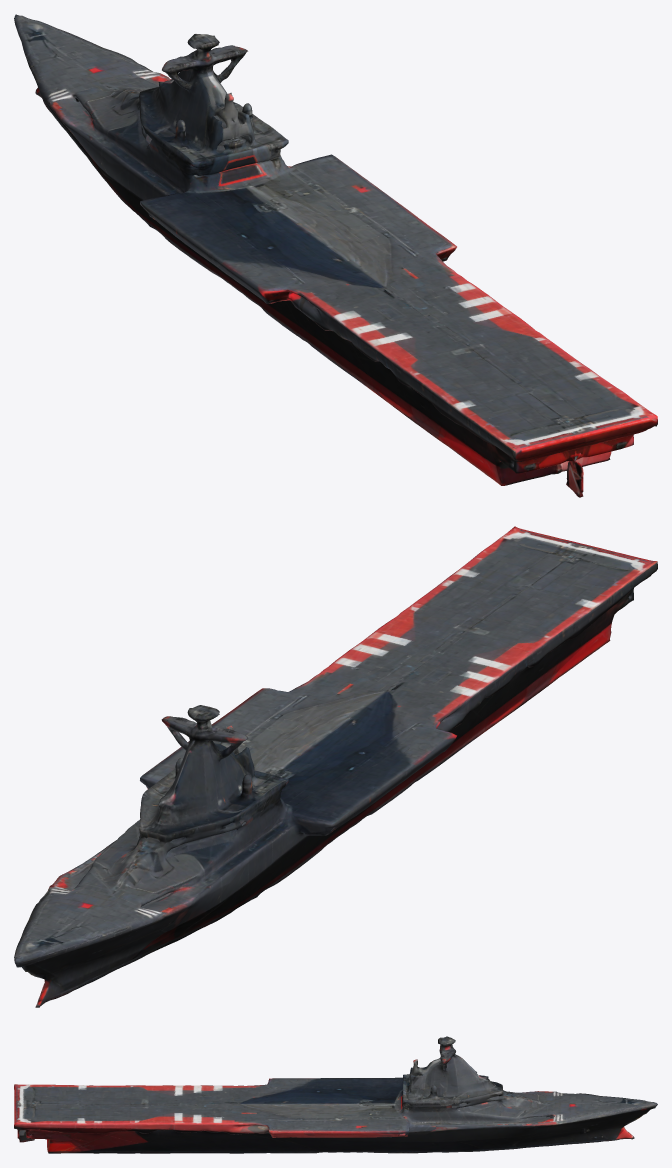
Rendered from carrier.glb.
The picture shows the model from 3 angles, top to bottom: view 1: azimuth 30°, elevation 25°; view 2: azimuth 150°, elevation 25°; view 3: azimuth 270°, elevation 25°; orthographic projection. The views are drawn at different scales.
Size of the model in its own units: 0.3931 by 0.3525 by 2.
1 material, 1 textured.
